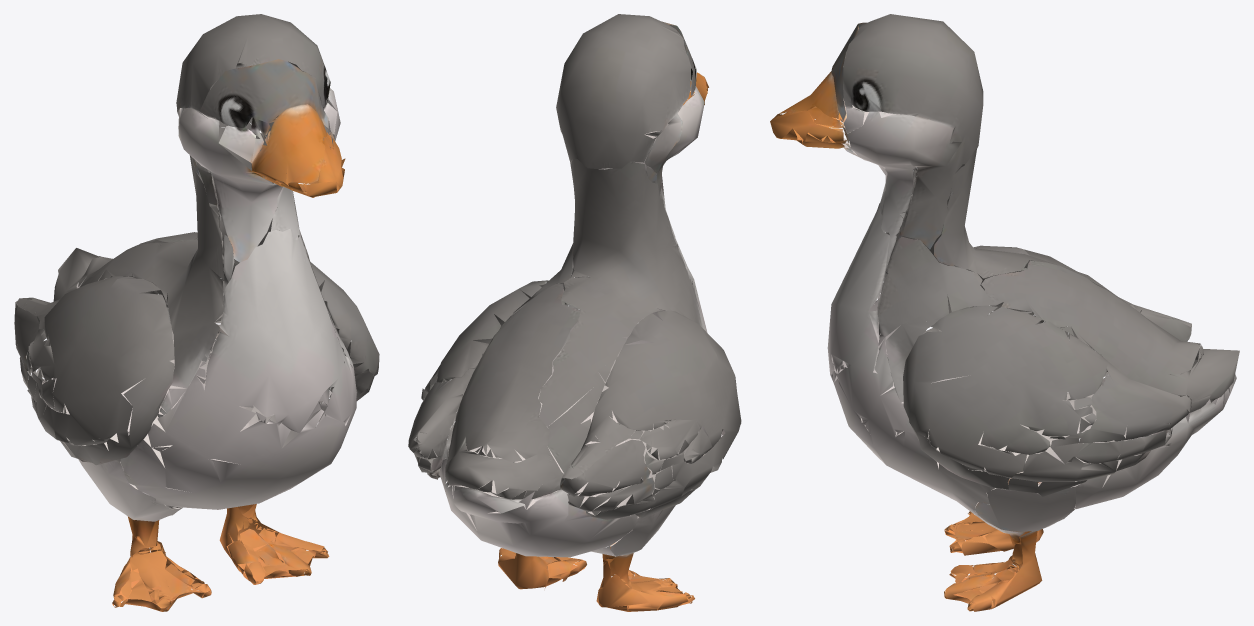
File: goose.glb
The picture shows the model from 3 angles, left to right: view 1: azimuth 30°, elevation 25°; view 2: azimuth 150°, elevation 25°; view 3: azimuth 270°, elevation 25°; orthographic projection. The views are drawn at different scales.
Parts seen in each view (by area): view 1: model; view 2: model; view 3: model.
Part boxes in pixels (left/top/right/bottom): model: left=14, top=14, right=379, bottom=611; model: left=408, top=14, right=741, bottom=611; model: left=770, top=14, right=1239, bottom=611.
Size of the model in its own units: 1.01 by 1.91 by 1.48.
Materials: 1 (1 with a texture image).
